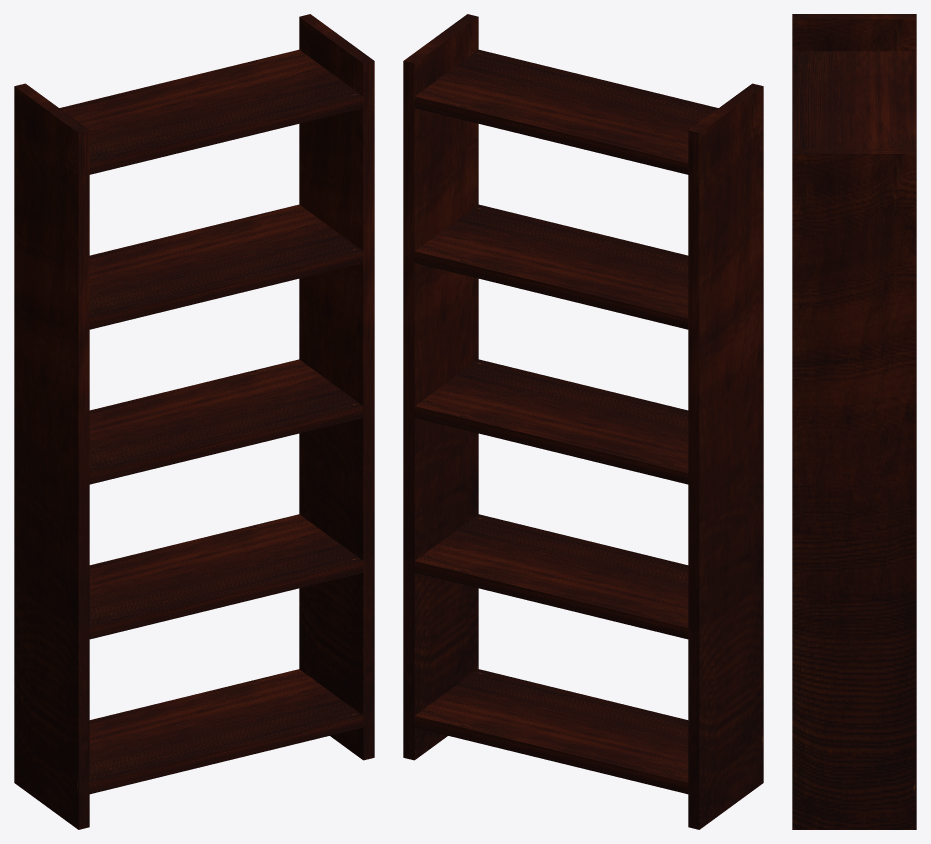
The model's file is state-default.glb.
The picture shows the model from 3 angles, left to right: view 1: azimuth 30°, elevation 25°; view 2: azimuth 150°, elevation 25°; view 3: azimuth 270°, elevation 25°; orthographic projection. The views are drawn at different scales.
Visible parts, largest first — view 1: assetPrim:3b515be13388f-19c73217ec3:bk-side-l, assetPrim:3b515be13388f-19c73217ec3:bk-side-r, assetPrim:3b515be13388f-19c73217ec3:bk-shelf-5, assetPrim:3b515be13388f-19c73217ec3:bk-shelf-3, assetPrim:3b515be13388f-19c73217ec3:bk-shelf-4, assetPrim:3b515be13388f-19c73217ec3:bk-shelf-1, assetPrim:3b515be13388f-19c73217ec3:bk-shelf-2; view 2: assetPrim:3b515be13388f-19c73217ec3:bk-side-l, assetPrim:3b515be13388f-19c73217ec3:bk-side-r, assetPrim:3b515be13388f-19c73217ec3:bk-shelf-5, assetPrim:3b515be13388f-19c73217ec3:bk-shelf-3, assetPrim:3b515be13388f-19c73217ec3:bk-shelf-4, assetPrim:3b515be13388f-19c73217ec3:bk-shelf-1, assetPrim:3b515be13388f-19c73217ec3:bk-shelf-2; view 3: assetPrim:3b515be13388f-19c73217ec3:bk-side-r, assetPrim:3b515be13388f-19c73217ec3:bk-shelf-5, assetPrim:3b515be13388f-19c73217ec3:bk-side-l.
Part boxes in pixels (left/top/right/bottom): assetPrim:3b515be13388f-19c73217ec3:bk-side-l: left=14, top=83, right=89, bottom=829; assetPrim:3b515be13388f-19c73217ec3:bk-side-r: left=299, top=14, right=374, bottom=760; assetPrim:3b515be13388f-19c73217ec3:bk-shelf-5: left=59, top=49, right=363, bottom=174; assetPrim:3b515be13388f-19c73217ec3:bk-shelf-3: left=89, top=359, right=363, bottom=484; assetPrim:3b515be13388f-19c73217ec3:bk-shelf-4: left=89, top=204, right=363, bottom=329; assetPrim:3b515be13388f-19c73217ec3:bk-shelf-1: left=89, top=669, right=363, bottom=794; assetPrim:3b515be13388f-19c73217ec3:bk-shelf-2: left=89, top=514, right=363, bottom=639; assetPrim:3b515be13388f-19c73217ec3:bk-side-l: left=688, top=83, right=763, bottom=829; assetPrim:3b515be13388f-19c73217ec3:bk-side-r: left=403, top=14, right=478, bottom=760; assetPrim:3b515be13388f-19c73217ec3:bk-shelf-5: left=414, top=49, right=718, bottom=174; assetPrim:3b515be13388f-19c73217ec3:bk-shelf-3: left=414, top=359, right=688, bottom=484; assetPrim:3b515be13388f-19c73217ec3:bk-shelf-4: left=414, top=204, right=688, bottom=329; assetPrim:3b515be13388f-19c73217ec3:bk-shelf-1: left=414, top=669, right=688, bottom=794; assetPrim:3b515be13388f-19c73217ec3:bk-shelf-2: left=414, top=514, right=688, bottom=639; assetPrim:3b515be13388f-19c73217ec3:bk-side-r: left=792, top=148, right=916, bottom=829; assetPrim:3b515be13388f-19c73217ec3:bk-shelf-5: left=792, top=51, right=916, bottom=148; assetPrim:3b515be13388f-19c73217ec3:bk-side-l: left=792, top=14, right=916, bottom=51.
Bounding box in the file's own units: 0.8 × 1.8 × 0.3.
Materials: 7 (7 with a texture image).
